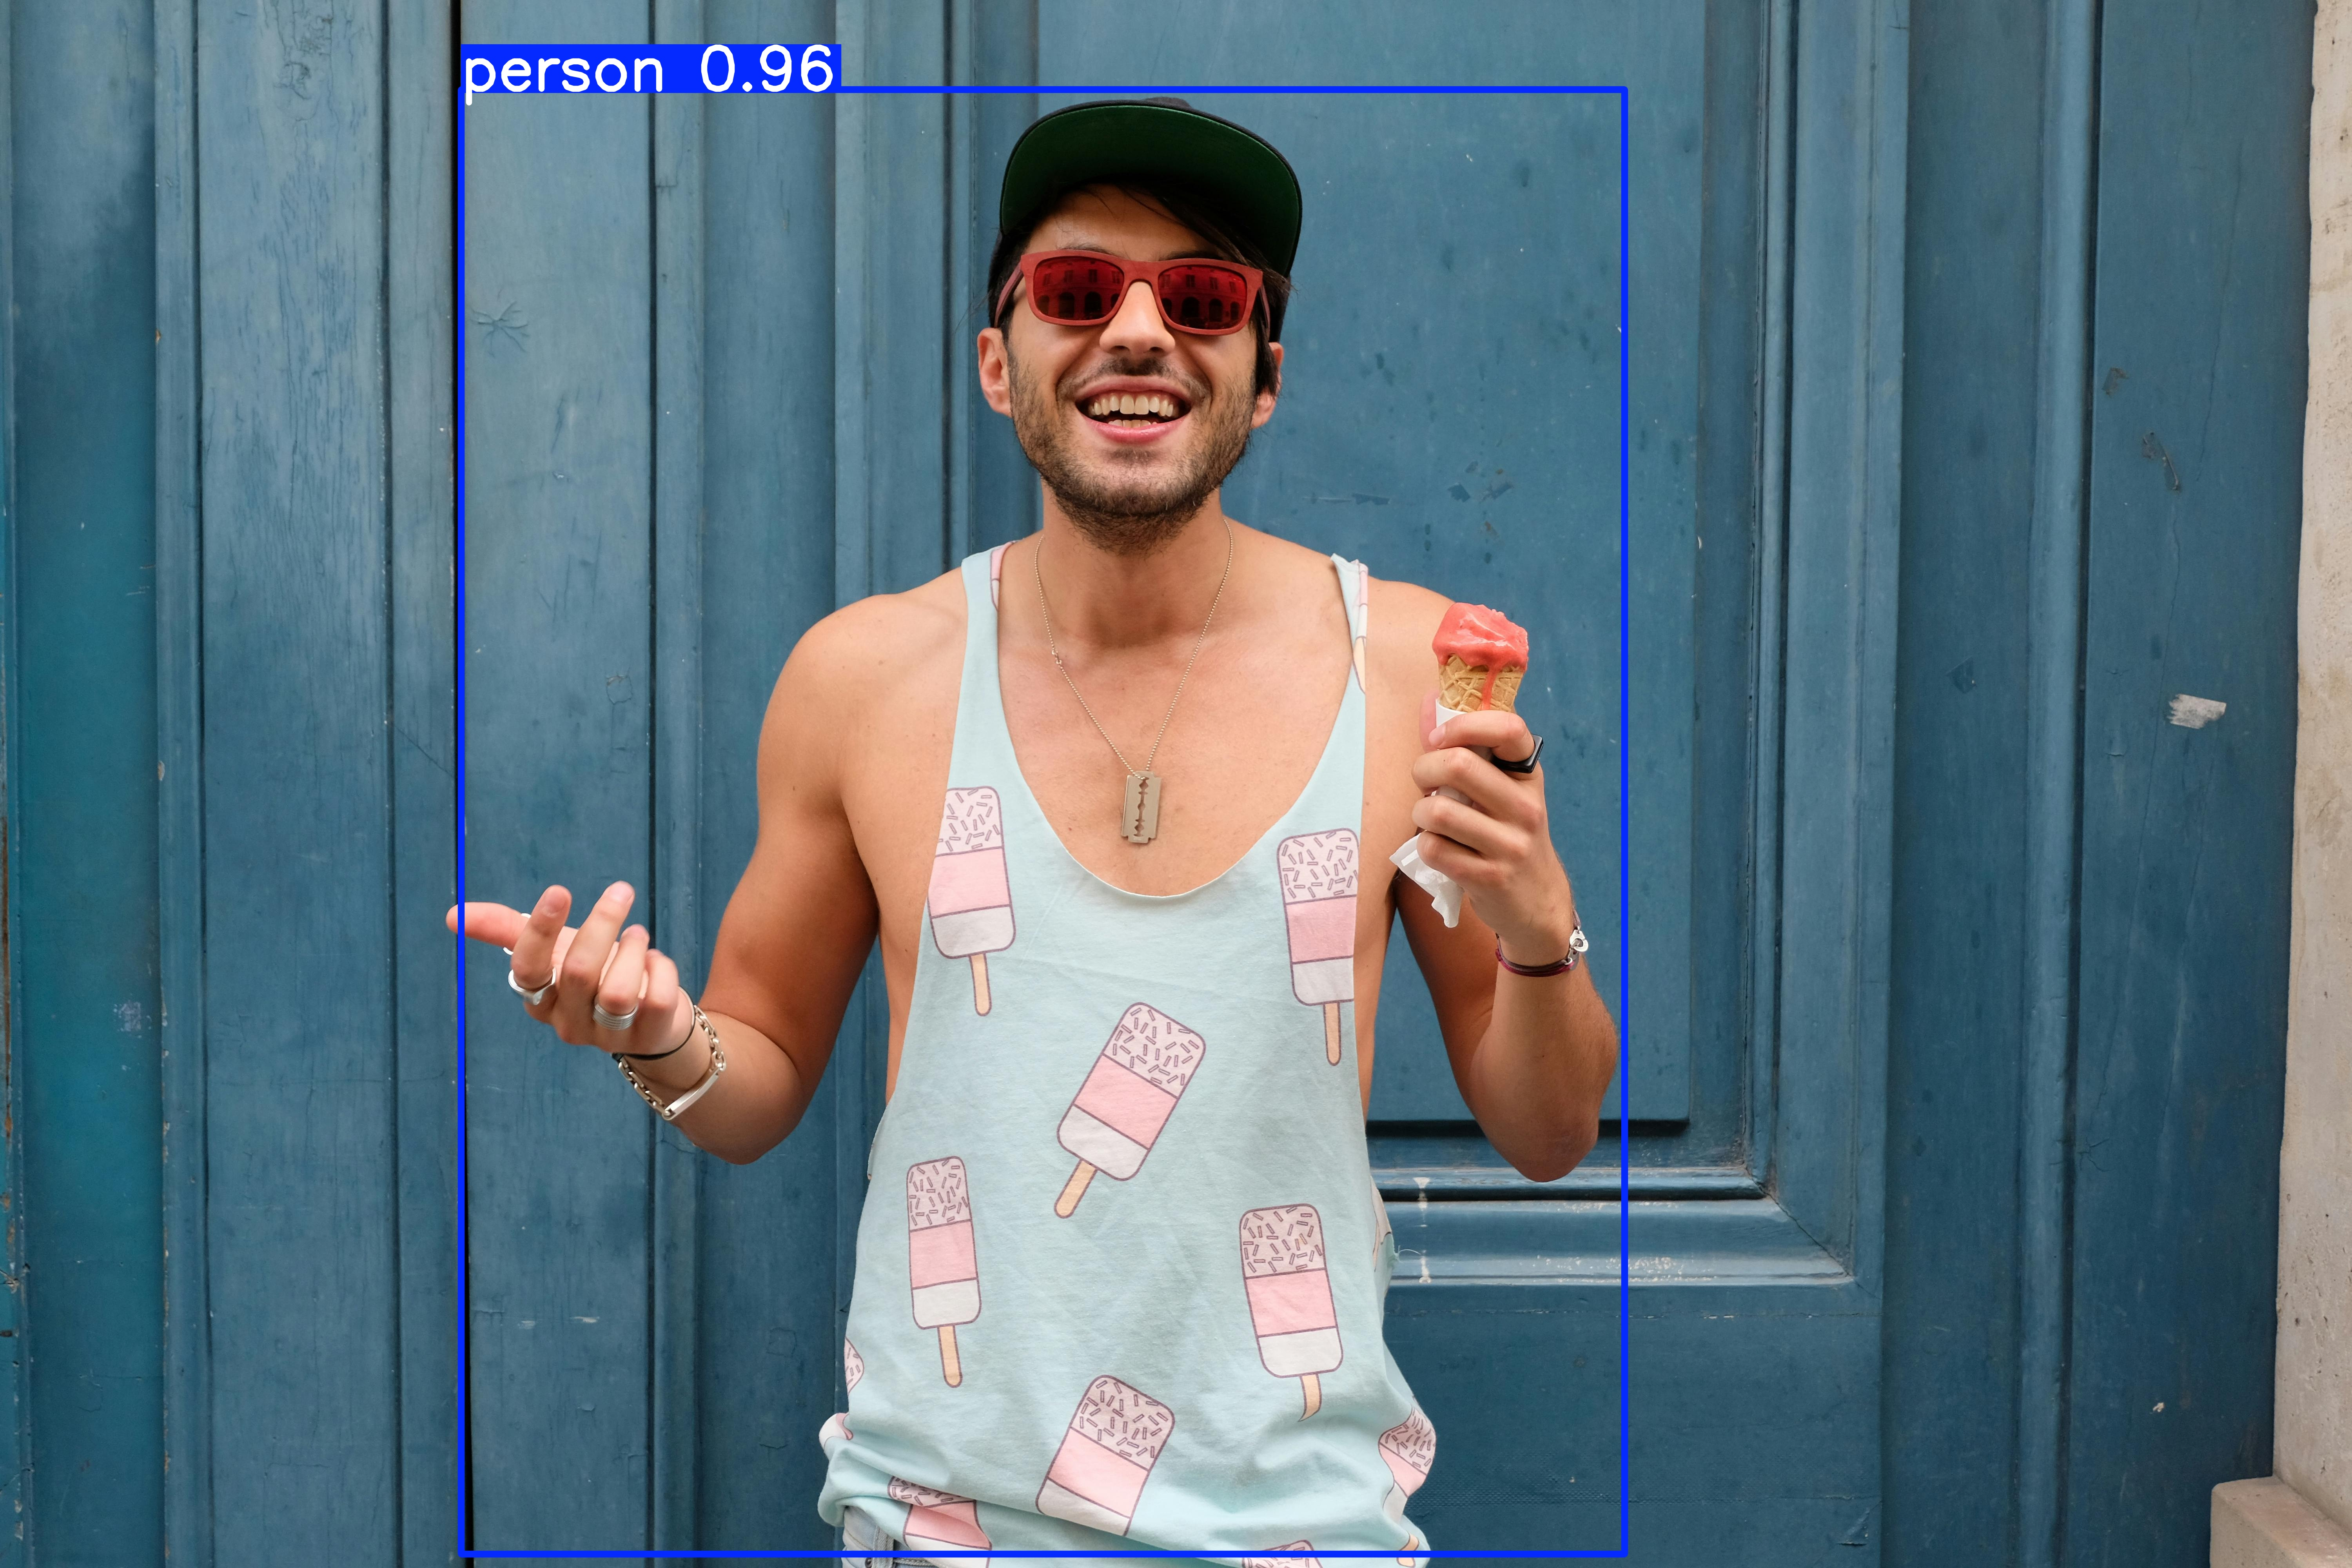person: (1771, 167, 2325, 1541), (67, 858, 531, 1554), (641, 542, 856, 1138)
